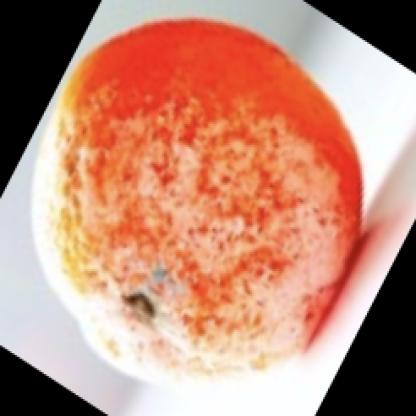rotten: (30, 19, 364, 379)
